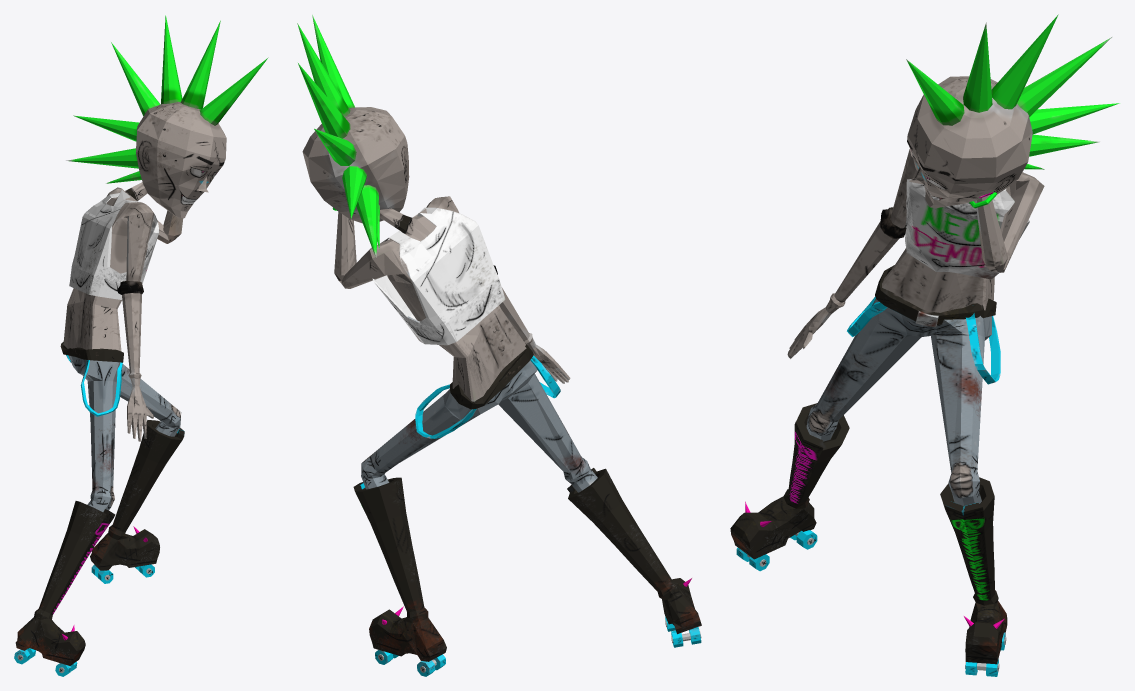
File: punkAnimation_000006.obj
3 views of the same model, side by side, from view 1: azimuth 30°, elevation 25°; view 2: azimuth 150°, elevation 25°; view 3: azimuth 270°, elevation 25° (orthographic). The views are drawn at different scales.
Parts seen in each view (by area): view 1: Cube.004_Cube.003; view 2: Cube.004_Cube.003; view 3: Cube.004_Cube.003.
Part boxes in pixels (bbox=[...]): Cube.004_Cube.003: bbox=[14, 15, 268, 676]; Cube.004_Cube.003: bbox=[297, 15, 701, 676]; Cube.004_Cube.003: bbox=[730, 14, 1119, 676].
Size of the model in its own units: 3.79 by 6.53 by 3.28.
